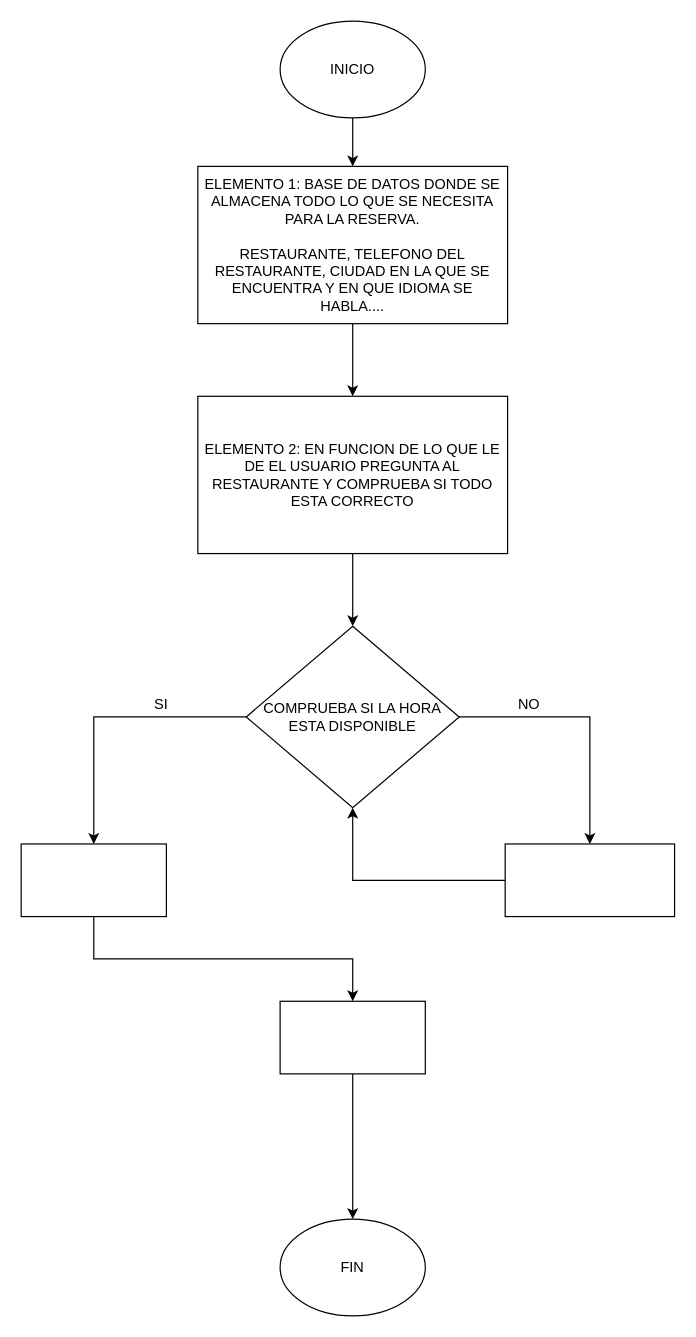
This 696x1337 diagram has some shape labels left out. The shapes that lost their labels are listed below. From the top down, each one's centre as x and y in pixels, then its label:
(x=93, y=880): RESERVA
(x=589, y=880): BUSCA OTRA HORA CERCANA
(x=352, y=1037): AVISA AL USUARIO DE LA HORA DE LA RESERVA Y SI ESTA DE ACUERDO
